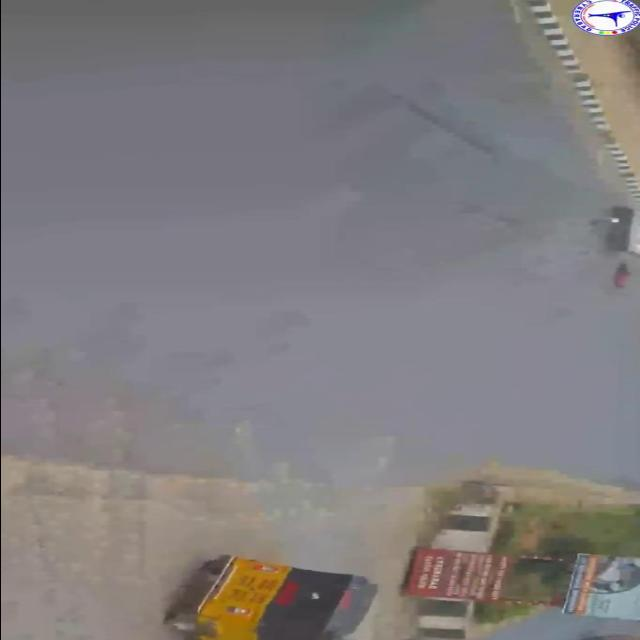accident: (581, 197, 640, 292)
